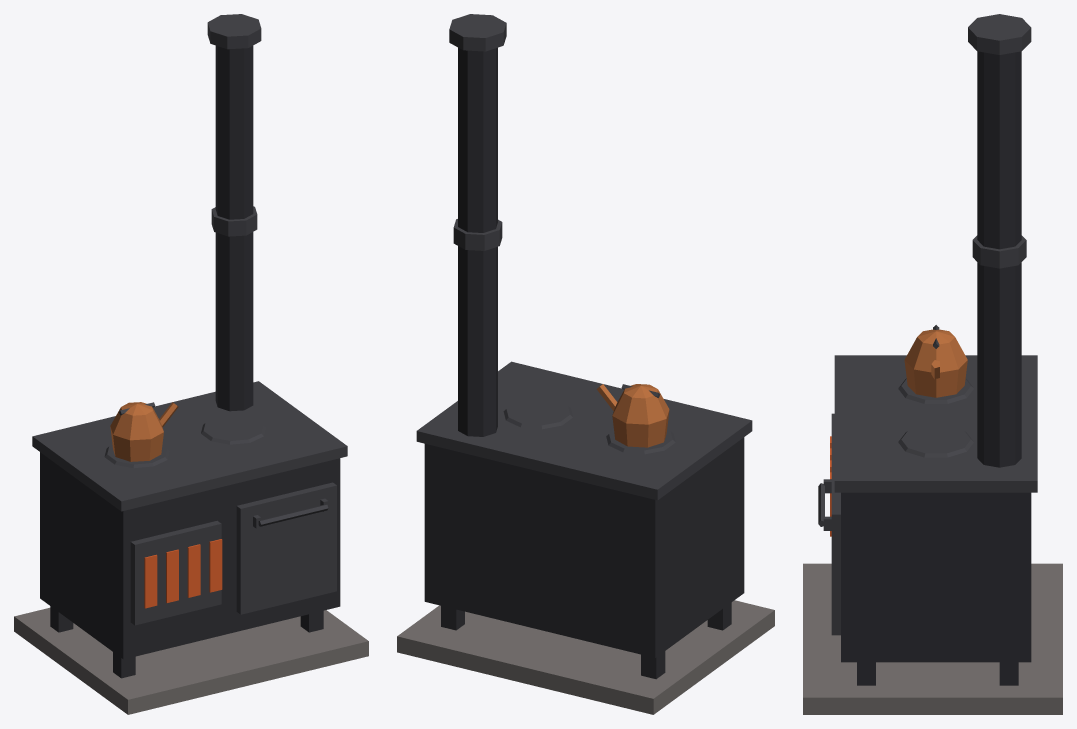
Rendered from Range.fbx.
3 views of the same model, side by side, from view 1: azimuth 30°, elevation 25°; view 2: azimuth 150°, elevation 25°; view 3: azimuth 270°, elevation 25° (orthographic). The views are drawn at different scales.
Parts seen in each view (by area): view 1: Range; view 2: Range; view 3: Range.
Boxes of the visible parts, x1,y1,x2,y2 form: Range: (14, 14, 368, 714); Range: (397, 14, 774, 714); Range: (803, 14, 1062, 714).
Size of the model in its own units: 1 by 2.3 by 0.82.
